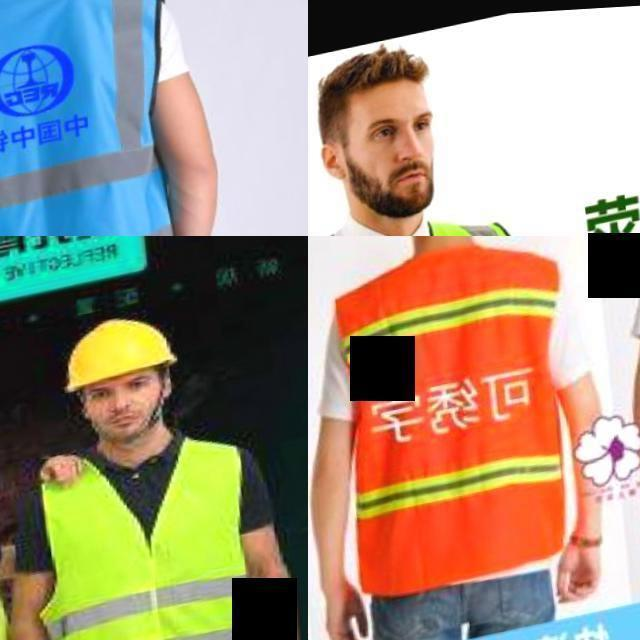vest: (314, 236, 599, 595), (26, 419, 284, 640), (0, 0, 219, 236)
